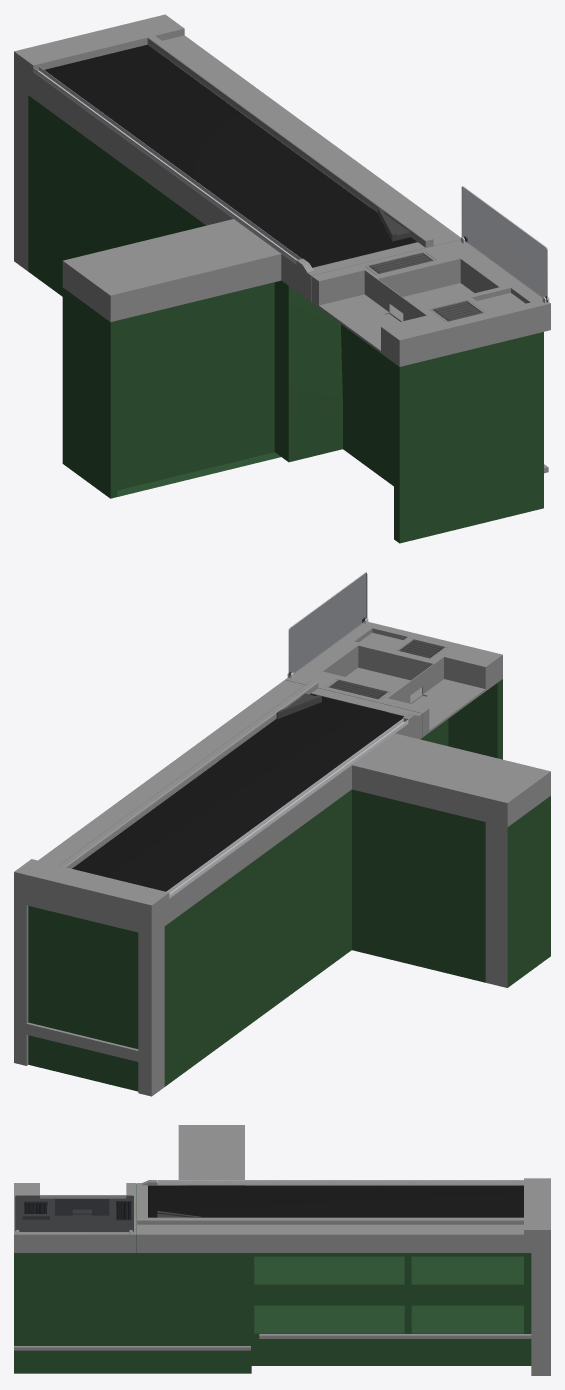
File: Checkout.fbx
The picture shows the model from 3 angles, top to bottom: view 1: azimuth 30°, elevation 25°; view 2: azimuth 150°, elevation 25°; view 3: azimuth 270°, elevation 25°; orthographic projection. The views are drawn at different scales.
Visible parts, largest first — view 1: Checkout; view 2: Checkout; view 3: Checkout.
Part boxes in pixels (x1,y1,x2,y2): Checkout: (14,14,550,543); Checkout: (14,572,550,1096); Checkout: (14,1125,550,1375).
Size of what is drawn, in the model's own units: 140 by 289 by 107.
6 materials, 1 textured.
